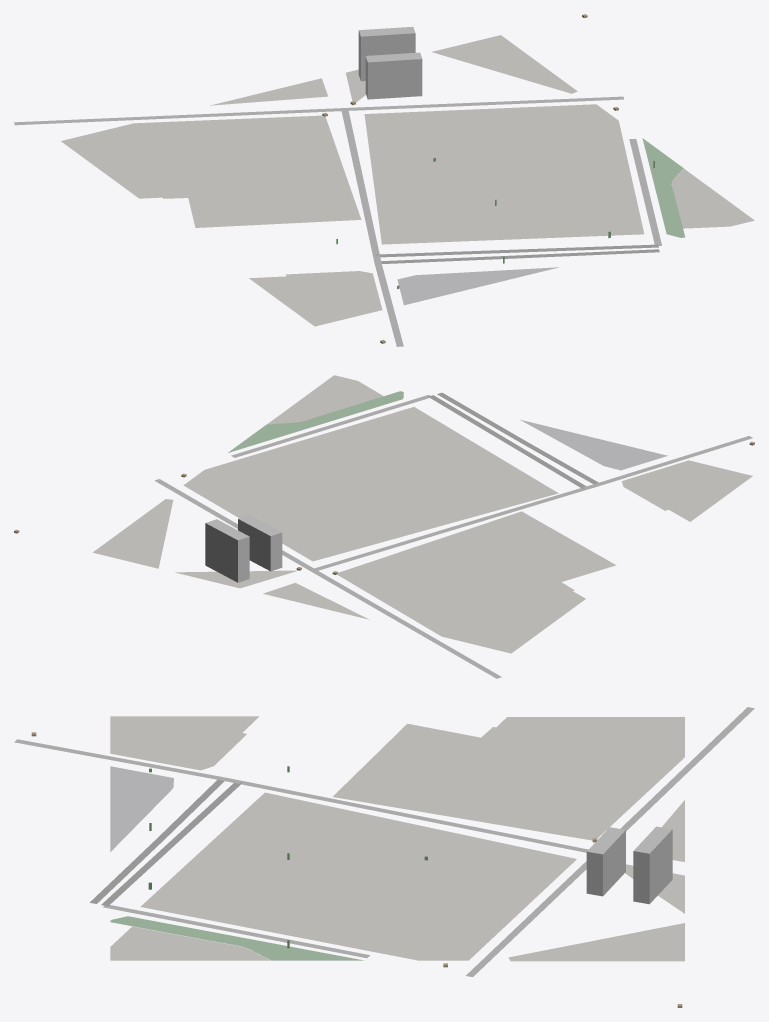
3 views of the same model, one above another, from view 1: azimuth 30°, elevation 25°; view 2: azimuth 150°, elevation 25°; view 3: azimuth 270°, elevation 25° (orthographic). The views are drawn at different scales.
Bounding box in the file's own units: 616 × 49.14 × 645.
